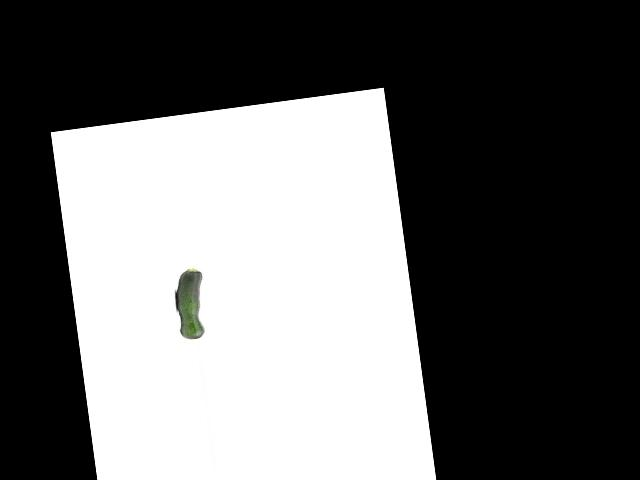cucumber: (171, 267, 210, 340)
